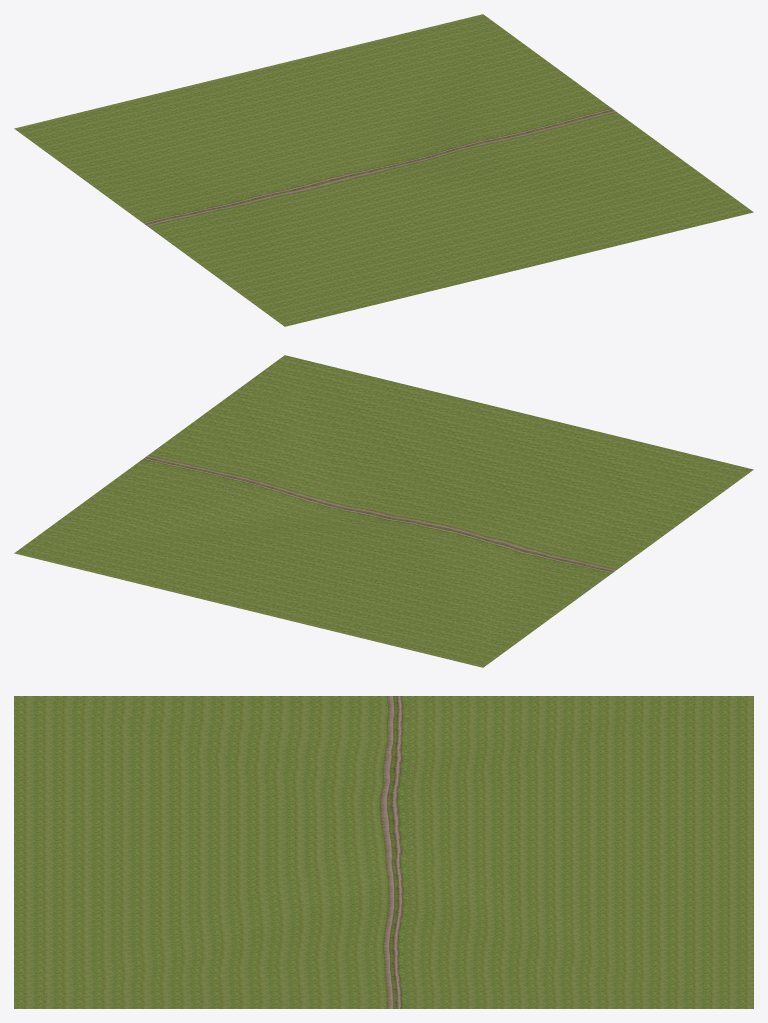
File: road1.FBX
3 views of the same model, one above another, from view 1: azimuth 30°, elevation 25°; view 2: azimuth 150°, elevation 25°; view 3: azimuth 270°, elevation 25° (orthographic). The views are drawn at different scales.
Parts seen in each view (by area): view 1: Plane001; view 2: Plane001; view 3: Plane001.
Boxes of the visible parts, box(x1,y1,x2,y2) form: Plane001: box(14, 14, 753, 326); Plane001: box(14, 355, 753, 667); Plane001: box(14, 696, 753, 1008).
Bounding box in the file's own units: 12000 × 69.35 × 12000.
